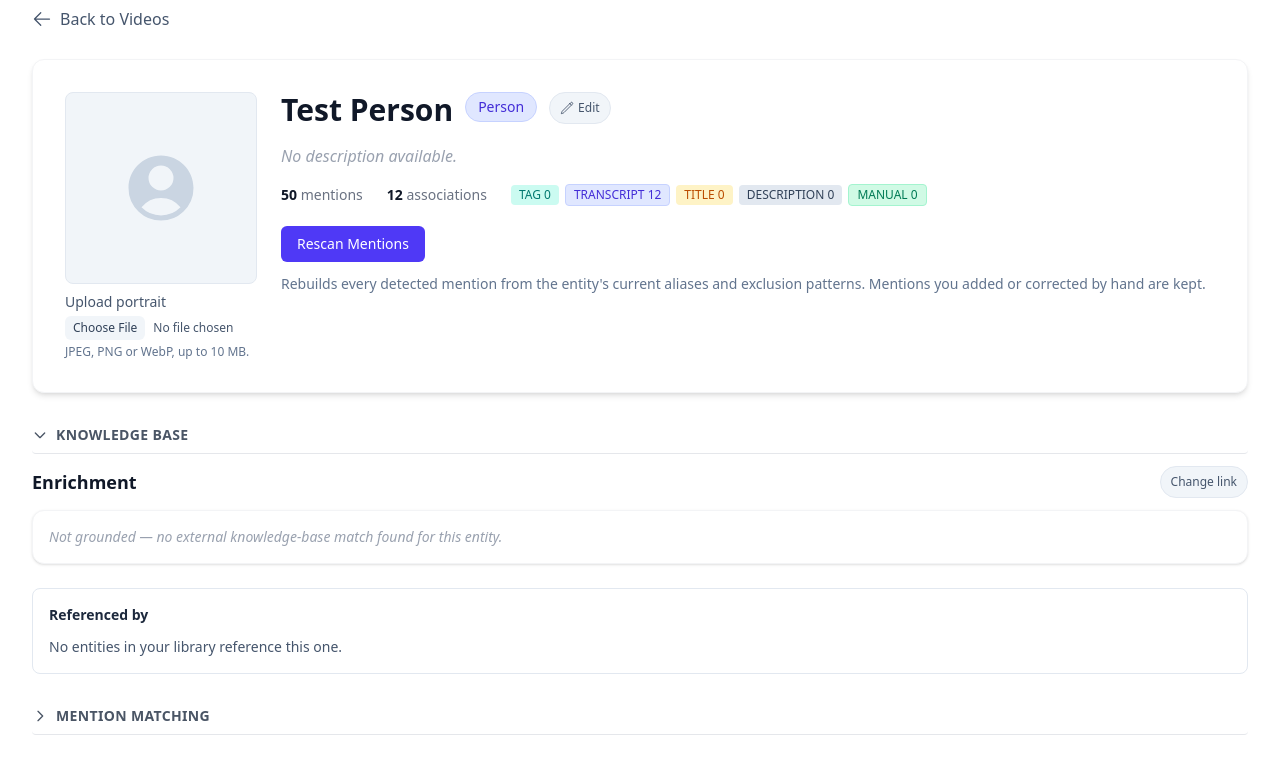
Test: EntityDetailPage — alias name/type edit (#289) › shows a not-found message on a 404
Click the button "Mention matching": [133, 716] box [32,698,1248,735]
(page scrolled)
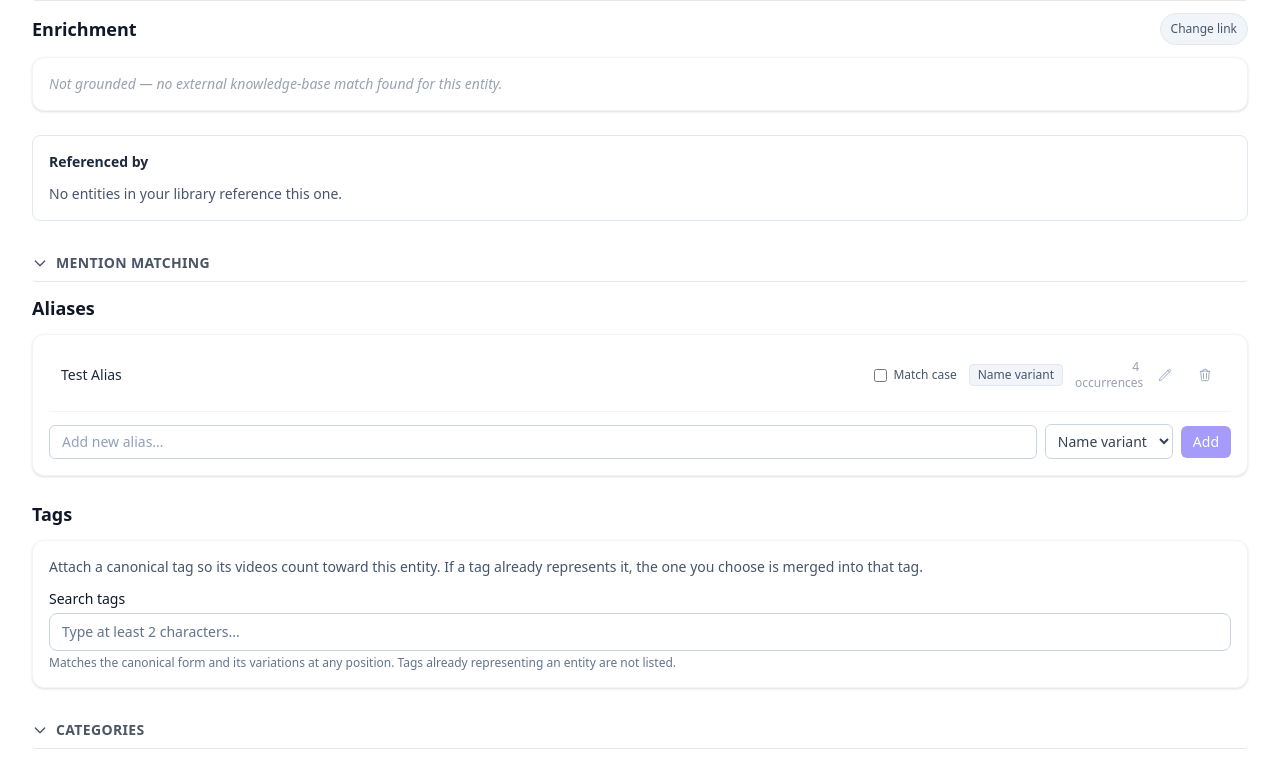
Click the button named "edit alias \"test alias\"": [1165, 375] box [1151,361,1179,389]
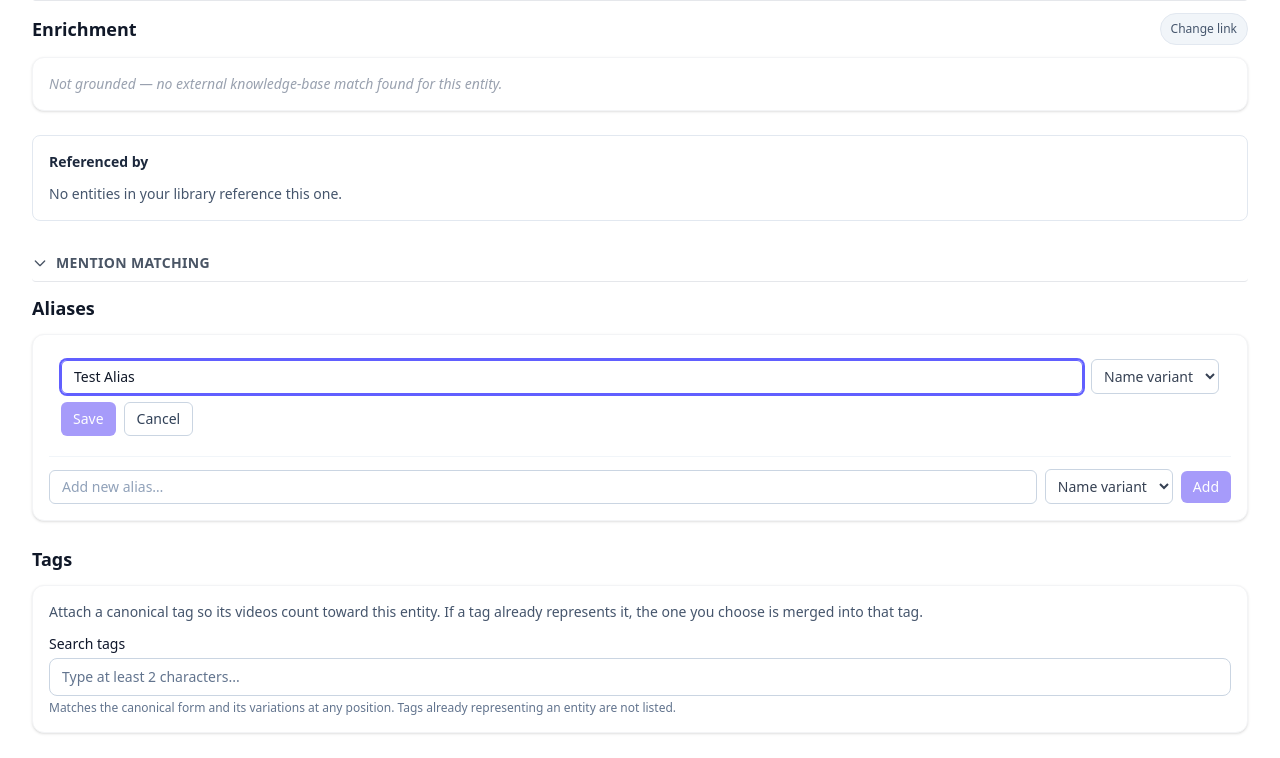
Replace the text in the field named "alias name for \"test alias\"" with "Renamed Alias": [572, 376] box [61,360,1083,394]
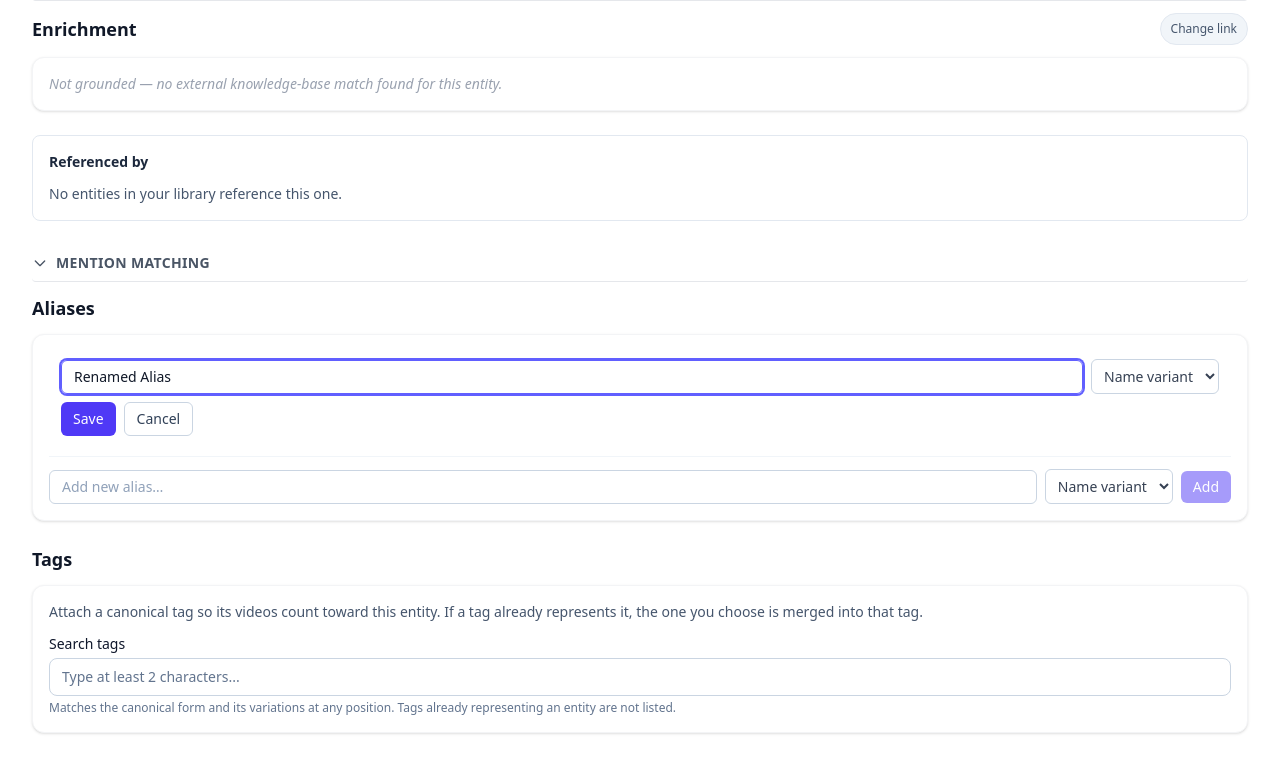
Click the button "Save": [88, 419] box [61,402,116,436]
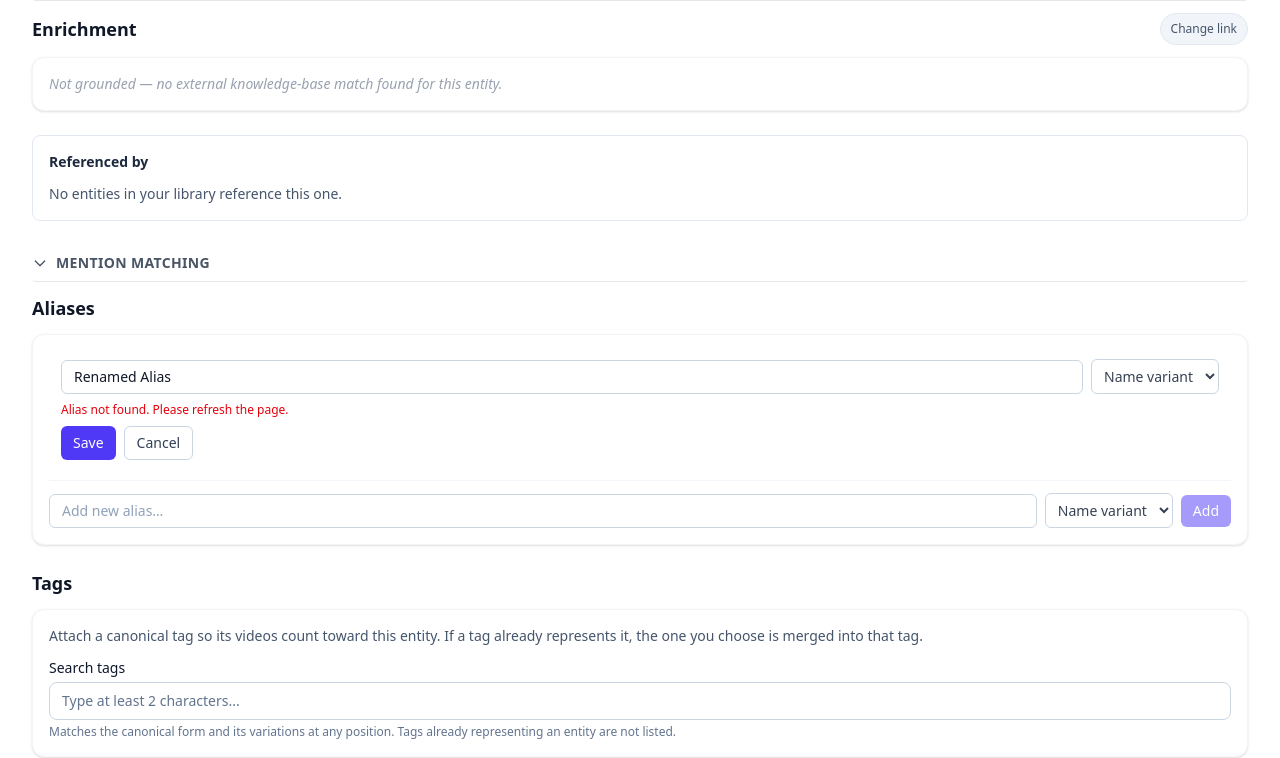
Result: the message "Alias not found. Please refresh the page." is shown at [61,401,288,418]
